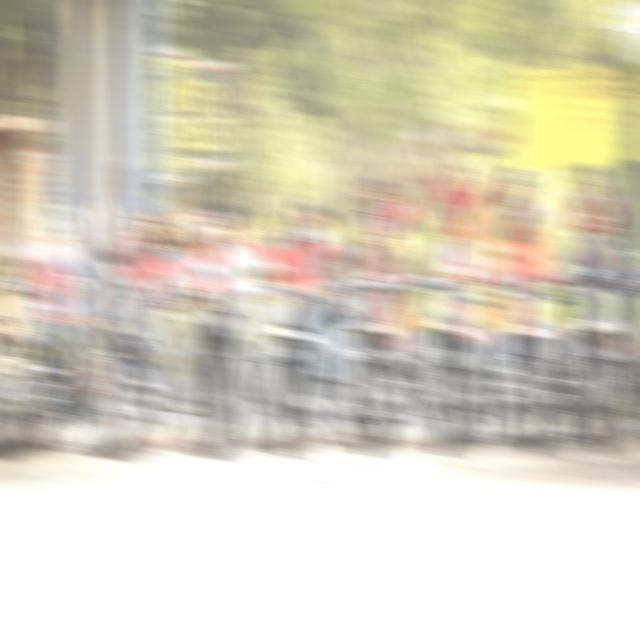Without Helmet: (276, 206, 316, 252), (507, 195, 543, 246), (354, 201, 388, 249), (576, 187, 610, 235)
